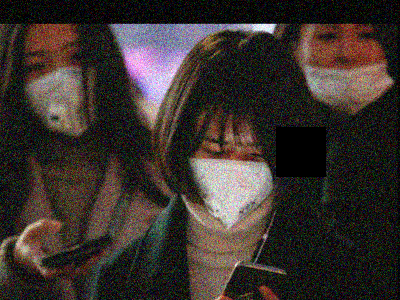mask_weared_incorrect: (295, 25, 395, 114)
with_mask: (185, 123, 280, 227), (18, 35, 100, 137)
